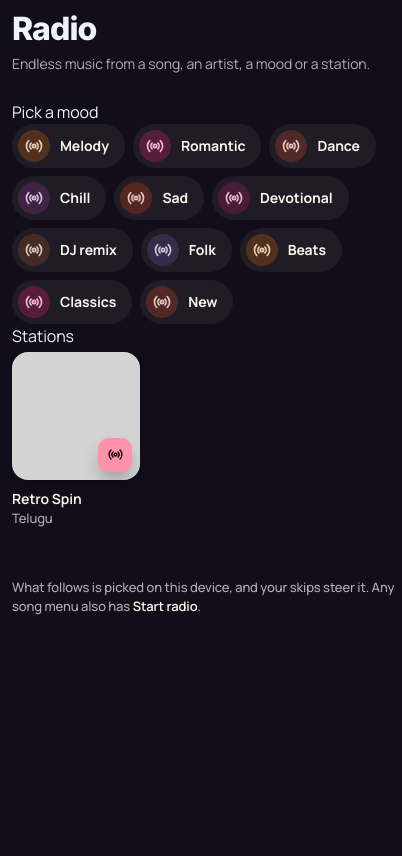
Scenario: Radio page › 1.3 — a station that will not open says so and offers Try again
The width and height of the screenshot is (402, 856).
Click the button with aria-label "Start Retro Spin station" at {"x": 76, "y": 440}, box [12,352,140,528]
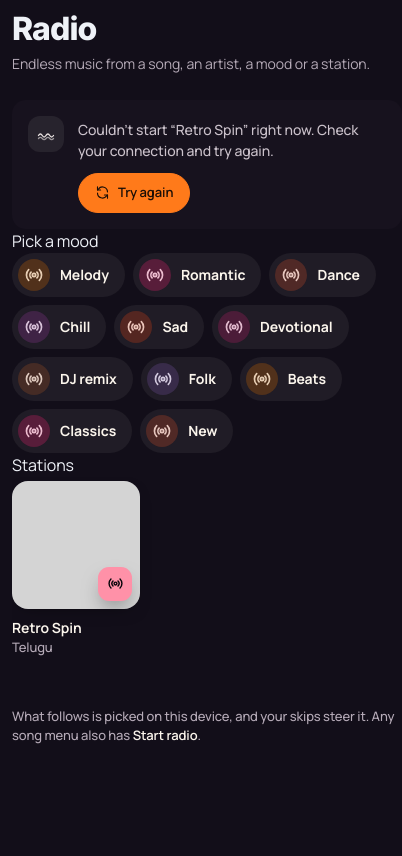
Result: the message shows "Couldn’t start “Retro Spin”" at [78,120,358,160]
Result: the button "Try again" is shown at [78,172,190,212]
